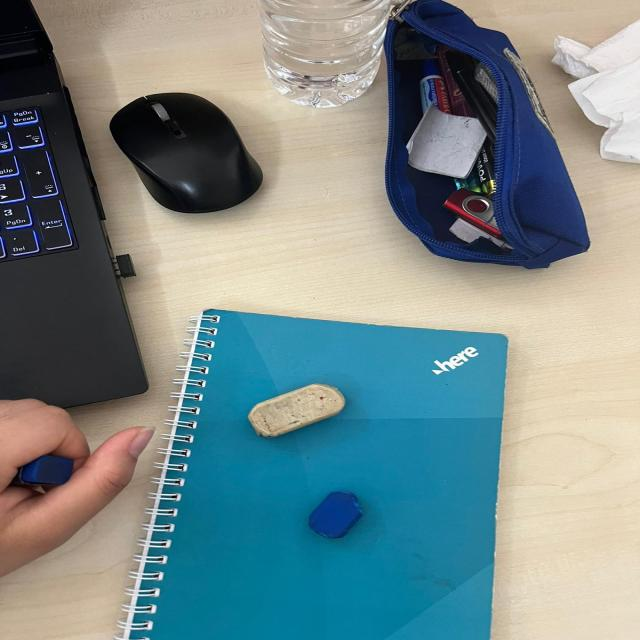eraser: (233, 381, 354, 438), (301, 482, 375, 552), (24, 449, 83, 490)
